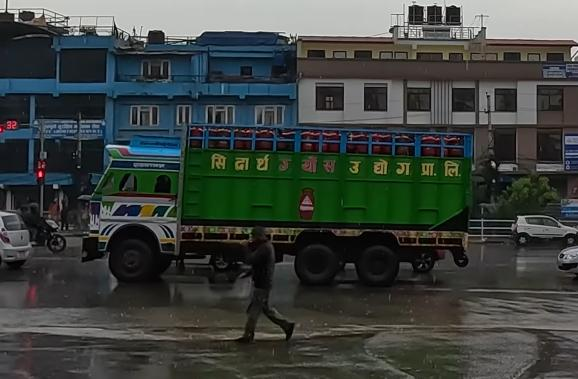taxi: (509, 210, 578, 248)
truck: (79, 122, 474, 286)
